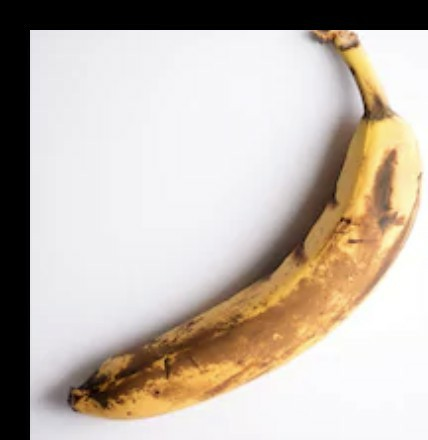rotten_banana: (76, 47, 419, 415)
